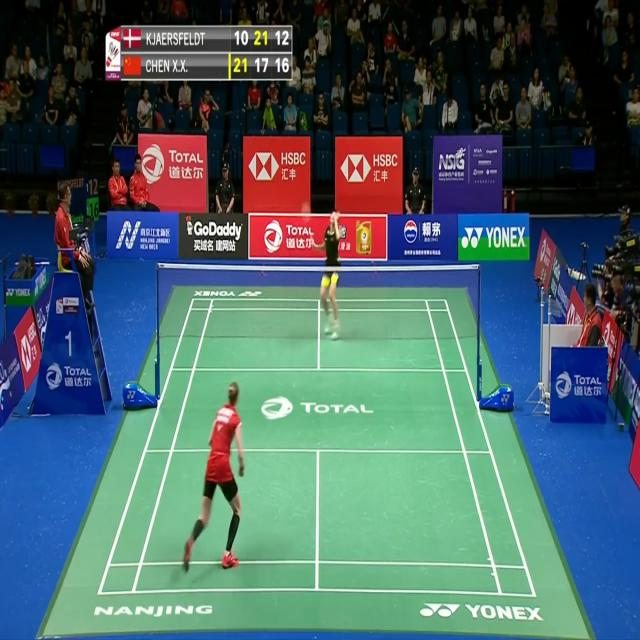Player1: (183, 376, 251, 574)
Player2: (303, 201, 351, 345)
